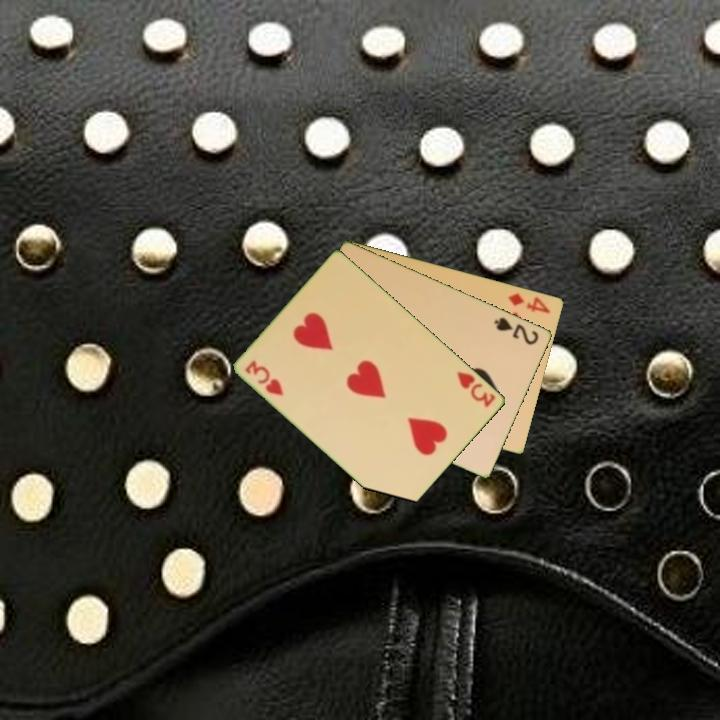2s: (491, 313, 542, 348)
3h: (242, 356, 287, 399), (454, 368, 499, 410)
4d: (505, 289, 553, 316)
